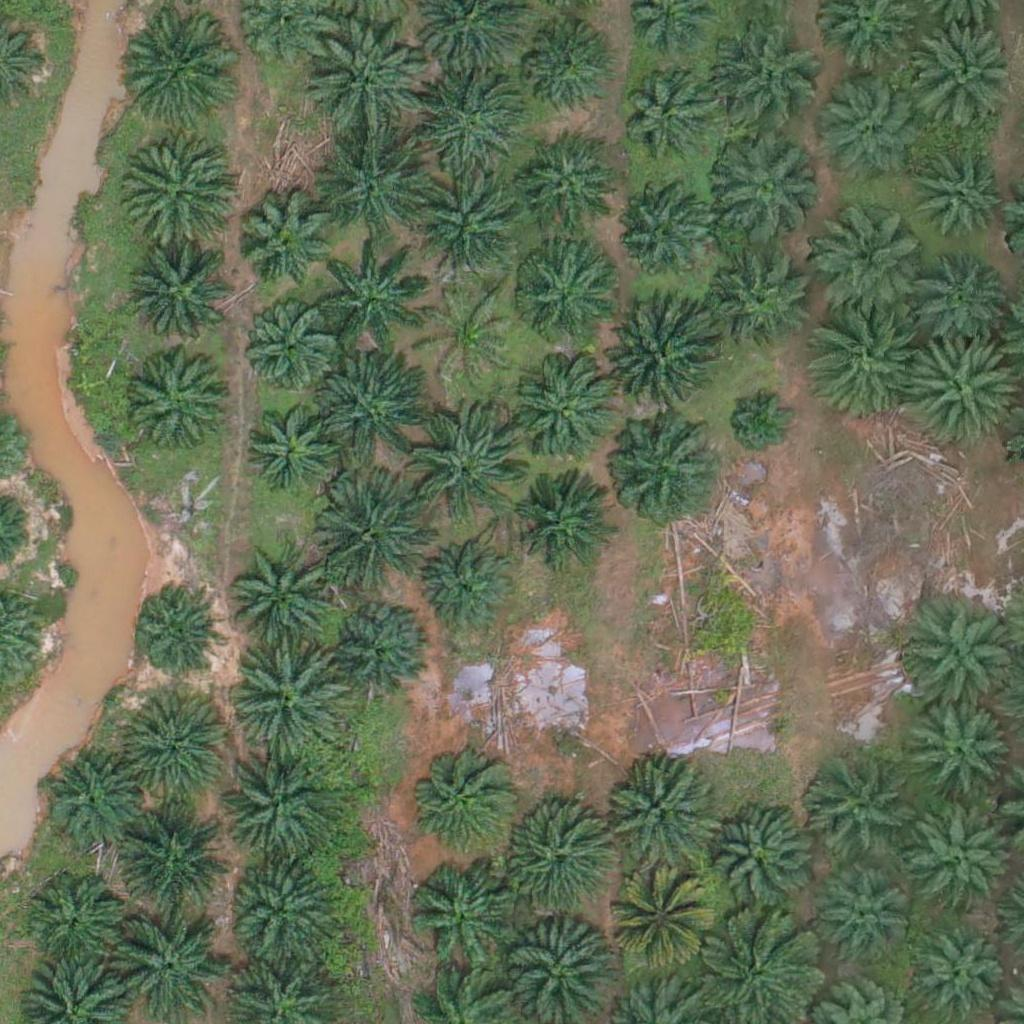Kelapa_Sawit: (229, 849, 342, 963), (317, 477, 430, 591), (220, 754, 333, 868), (118, 690, 231, 804), (124, 8, 237, 122), (406, 864, 519, 977), (903, 332, 1016, 445), (808, 73, 921, 186), (808, 192, 921, 305), (800, 306, 913, 419), (903, 601, 1016, 714), (700, 803, 813, 916), (705, 133, 818, 246), (604, 302, 717, 415), (318, 351, 431, 464), (308, 25, 421, 138), (120, 132, 233, 245), (512, 352, 624, 466), (413, 63, 525, 177), (414, 176, 526, 290), (407, 741, 519, 855), (117, 798, 229, 912), (127, 241, 239, 355), (109, 909, 221, 1022), (906, 791, 1018, 904), (800, 754, 912, 867), (603, 760, 715, 873), (493, 804, 605, 917), (712, 16, 824, 129), (606, 418, 718, 531), (410, 407, 522, 520), (315, 238, 427, 351), (319, 123, 431, 236), (231, 531, 343, 644), (235, 645, 347, 758), (24, 871, 124, 972), (910, 251, 1010, 352), (914, 138, 1014, 239), (911, 705, 1011, 806), (714, 252, 814, 353), (611, 184, 711, 285), (420, 280, 520, 381), (327, 598, 427, 699), (237, 298, 337, 399), (241, 394, 341, 495), (130, 350, 230, 451), (43, 751, 143, 852), (608, 875, 708, 975), (513, 471, 613, 571), (517, 142, 617, 242), (510, 243, 610, 343), (416, 544, 516, 644), (234, 191, 334, 291), (622, 71, 710, 159), (519, 25, 607, 113), (918, 932, 1005, 1020), (820, 877, 907, 965), (131, 584, 218, 672), (724, 381, 799, 456)
